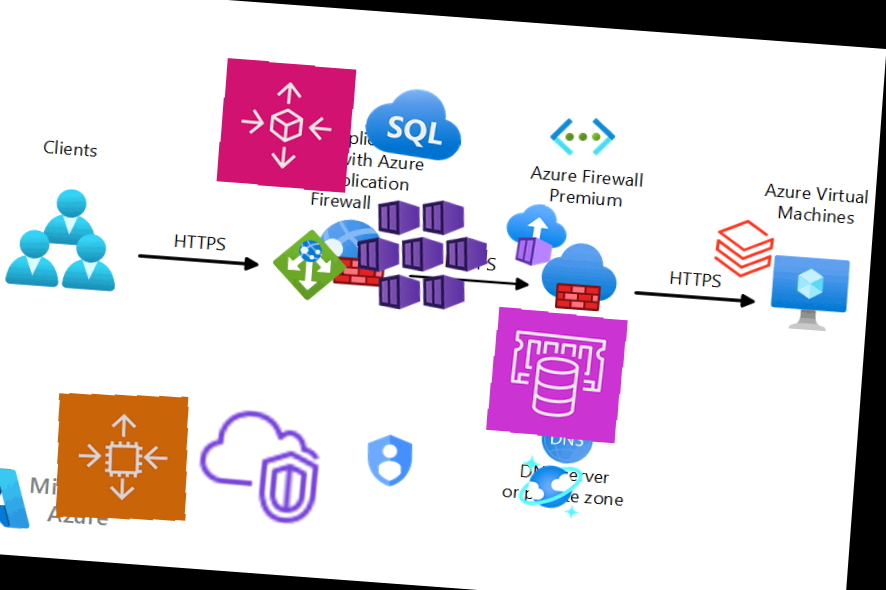aws_amazon_ec2_auto_scaling: (50, 387, 194, 526)
aws_amazon_elasticache: (484, 305, 629, 444)
aws_auto_scaling: (215, 56, 357, 193)
aws_vpc_virtual_private_cloud_vpc: (187, 397, 330, 534)
azure_container_instances: (498, 198, 573, 271)
azure_cosmos_db: (514, 451, 587, 522)
azure_databricks: (706, 212, 781, 284)
azure_kubernetes_services: (347, 181, 497, 326)
azure_sql: (358, 70, 470, 178)
azure_virtual_networks: (545, 100, 620, 173)
gcp_identity_and_access_management: (353, 425, 426, 495)
